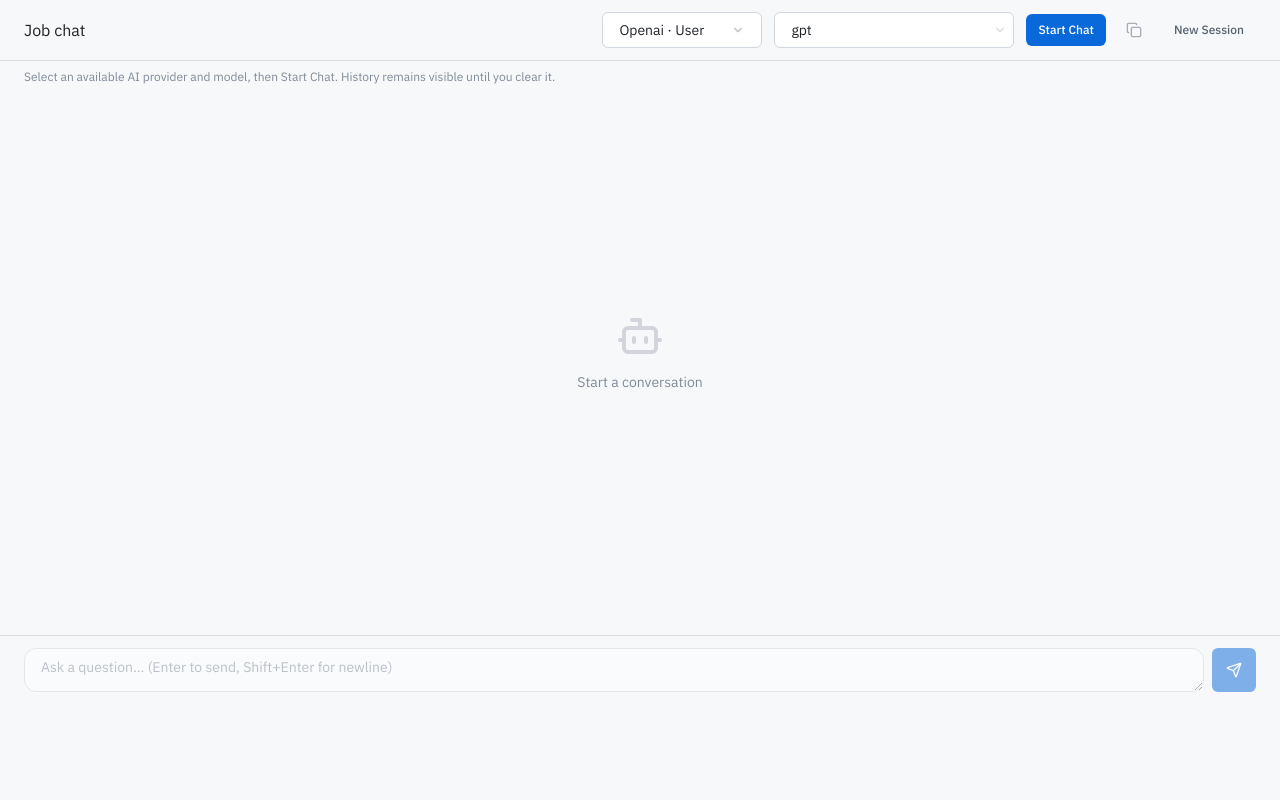
Test: keeps history visible and permits retry after Start fails
This screenshot has width=1280, height=800.
What coordinates should you click on to do the following:
click the button "Start Chat"
I would click on:
 (1066, 30)
Its box is [1026,14,1106,46].
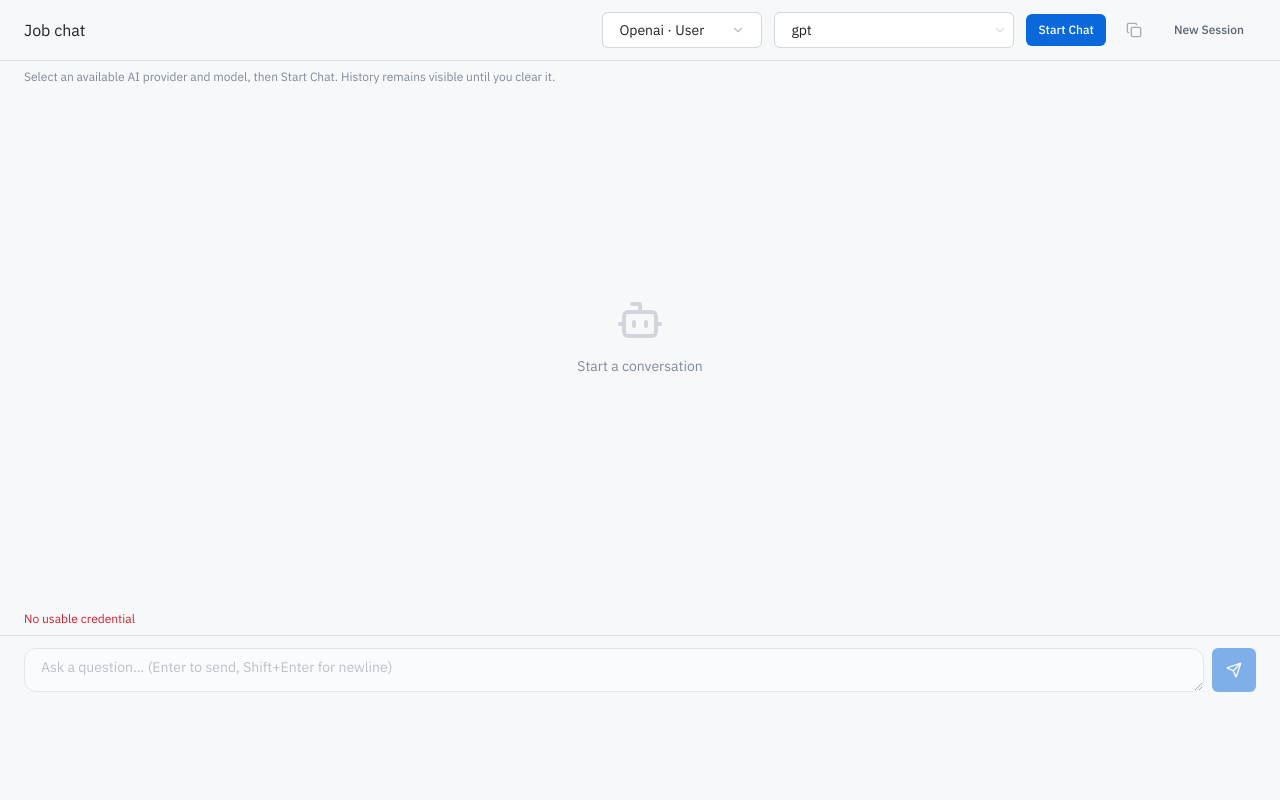
Expected: the text box with placeholder "Ask a question... (Enter to send, Shift+Enter for newline)" is disabled, [24,648,1204,692]
Expected: the message "No usable credential" is shown, [24,611,135,626]
